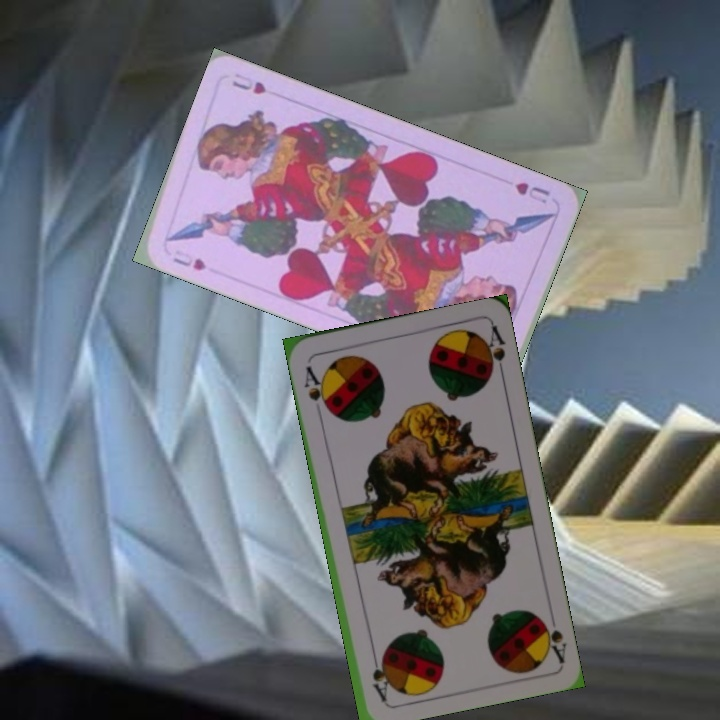HU: (511, 178, 553, 207), (169, 245, 209, 273)
SA: (535, 611, 569, 665), (300, 362, 332, 415)
